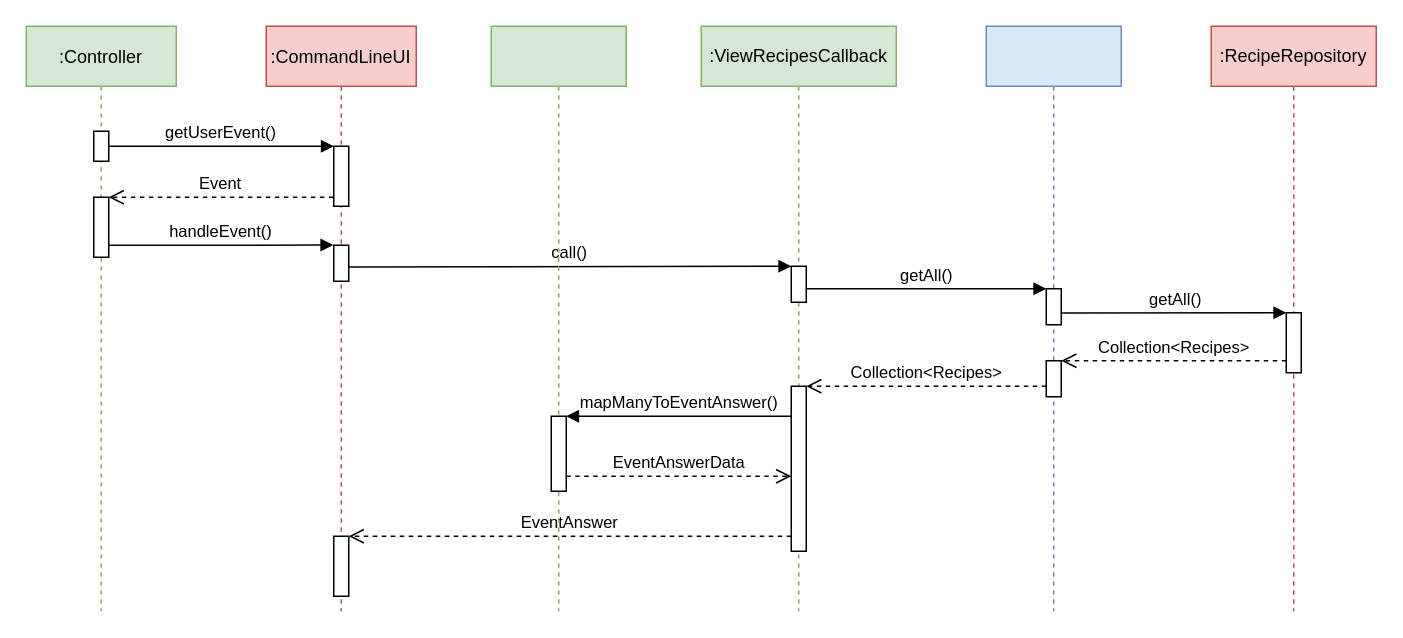
This 1403x638 diagram has some shape labels left out. The box of each missing label's shape, as (x1, y1, x2, y2) in pixels:
:RecipeMapper: (490, 25, 626, 611)
:RecipeService: (985, 25, 1121, 611)
